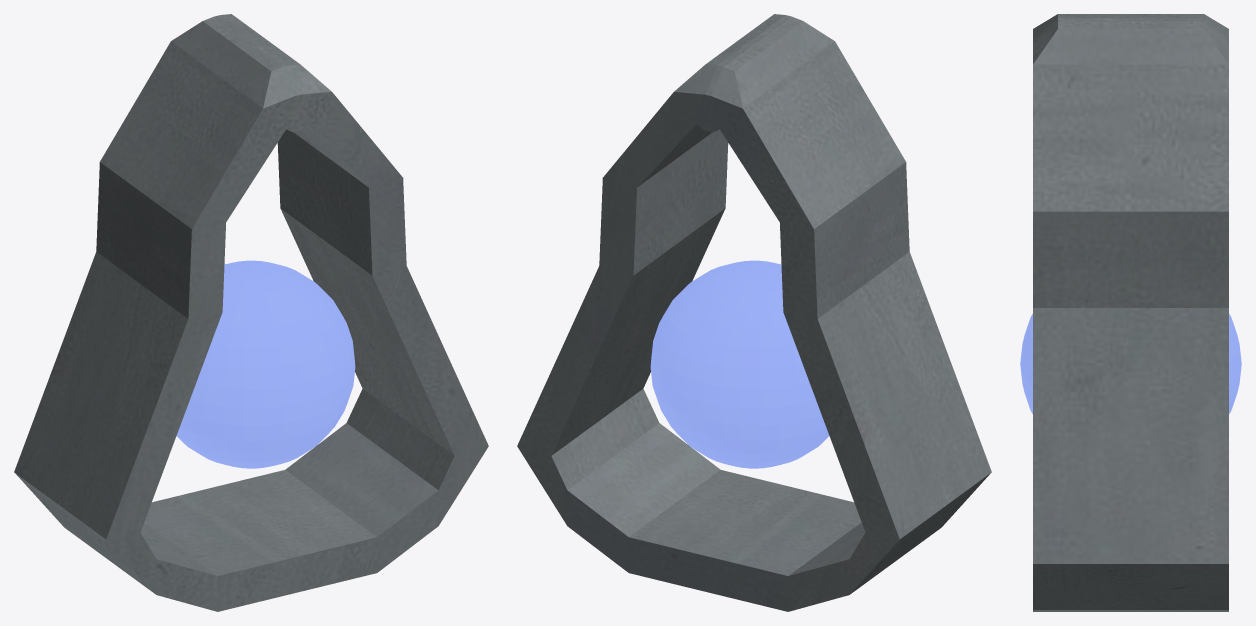
Rendered from portal.glb.
3 views of the same model, side by side, from view 1: azimuth 30°, elevation 25°; view 2: azimuth 150°, elevation 25°; view 3: azimuth 270°, elevation 25° (orthographic). The views are drawn at different scales.
Parts seen in each view (by area): view 1: Portal; view 2: Portal; view 3: Portal.
Boxes of the visible parts, <box> form: Portal: <box>14,14,488,611</box>; Portal: <box>517,14,991,611</box>; Portal: <box>1020,14,1241,611</box>.
Size of the model in its own units: 4.8 by 6.2 by 2.26.
2 materials, 1 textured.
